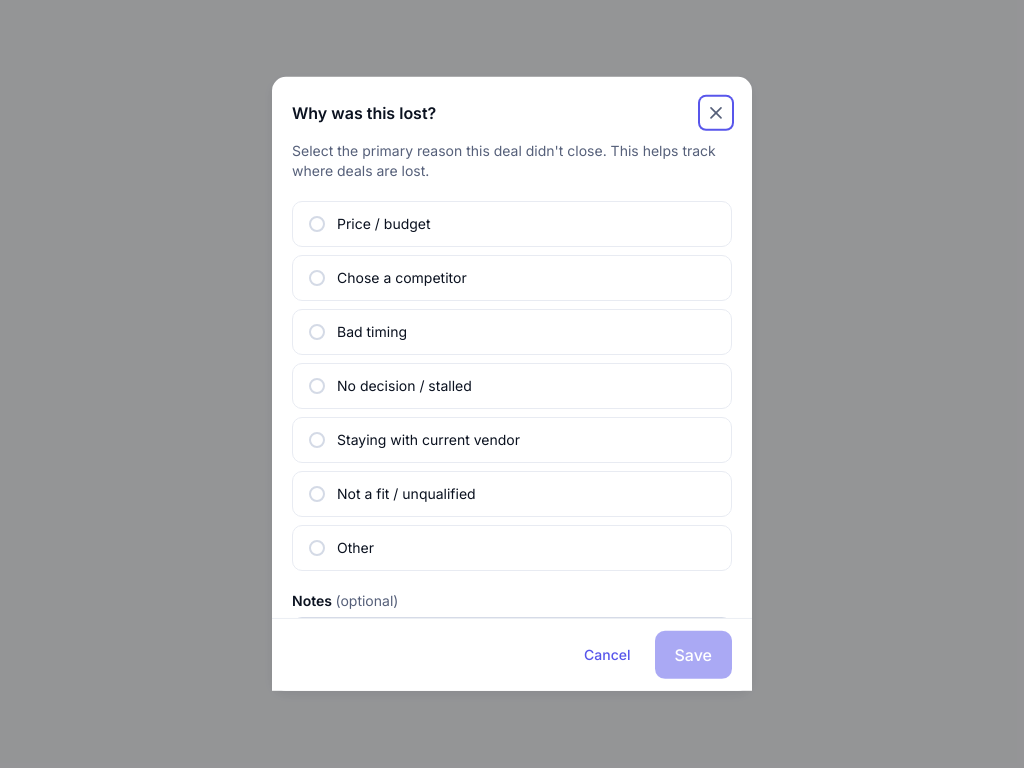
Test: LostReasonModal › Save button is disabled until a category is selected
The image size is (1024, 768).
Expected: the button "Save" is disabled, x1=654 y1=631 x2=732 y2=679
Pick a reason — button should become enabled
Click the radio button labelled "Price / budget": (384, 223) x1=292 y1=201 x2=732 y2=247
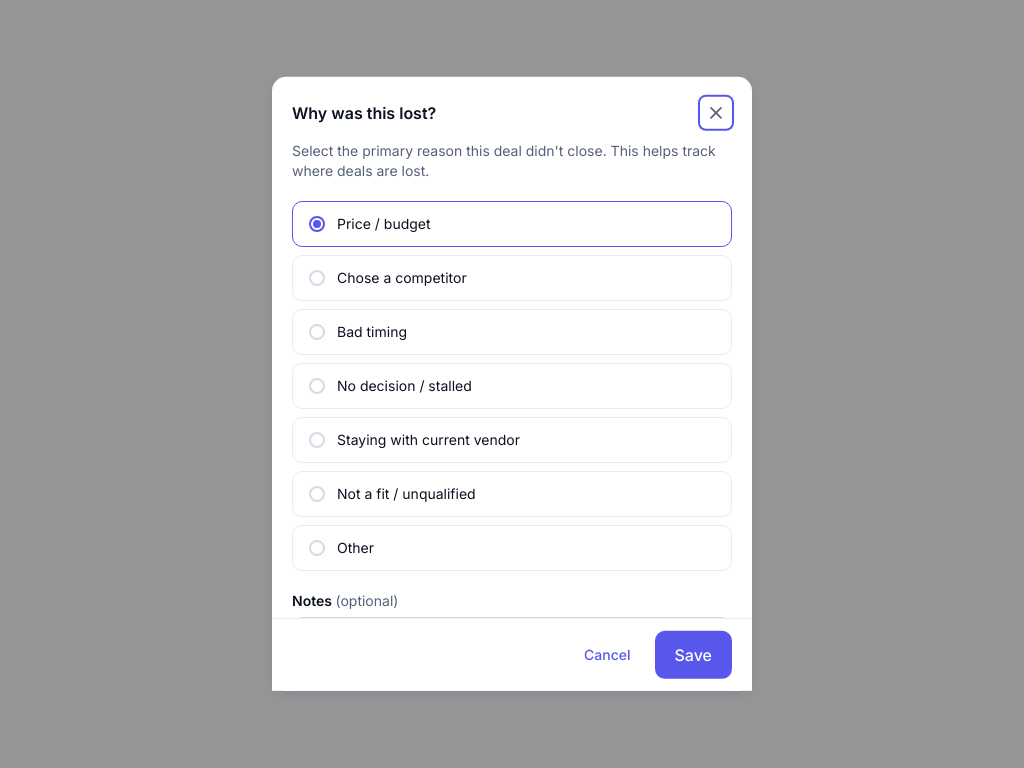
Expected: the button "Save" is enabled, x1=654 y1=631 x2=732 y2=679
